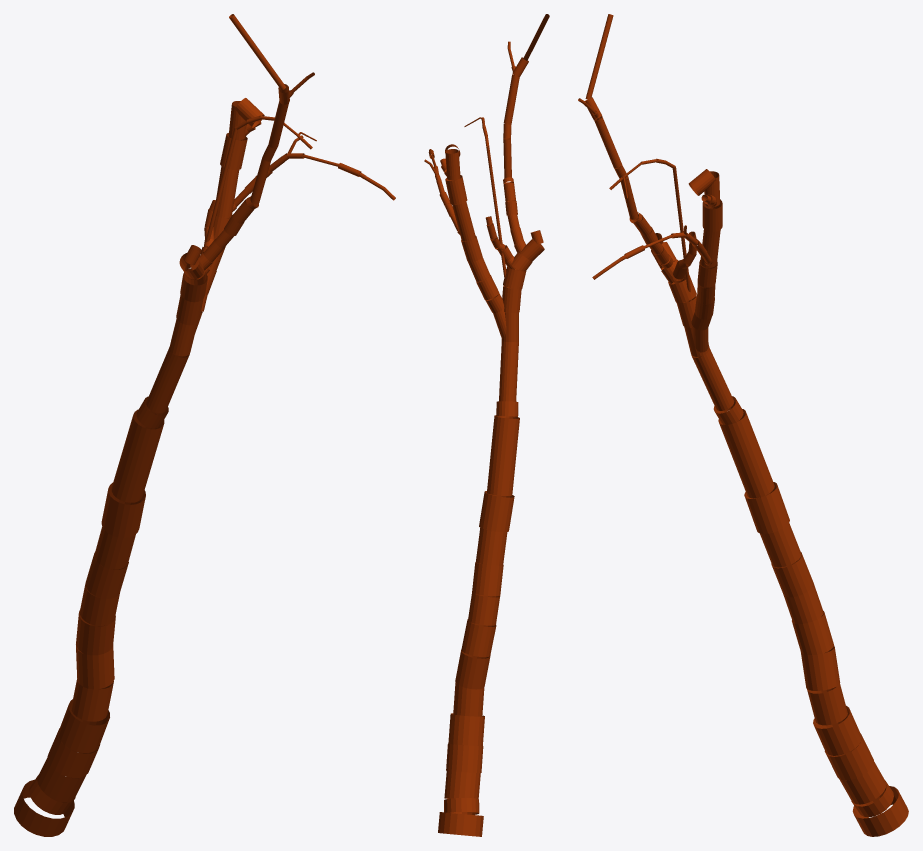
Rendered from tree_0118.obj.
3 renders of one model, left to right at view 1: azimuth 30°, elevation 25°; view 2: azimuth 150°, elevation 25°; view 3: azimuth 270°, elevation 25°, orthographic. The views are drawn at different scales.
Visible parts, largest first — view 1: groupWood; view 2: groupWood; view 3: groupWood.
Boxes of the visible parts, bbox=[...] form: groupWood: bbox=[14, 14, 395, 836]; groupWood: bbox=[424, 14, 549, 836]; groupWood: bbox=[578, 14, 908, 836].
Size of the model in its own units: 5.26 by 20.88 by 7.49.
